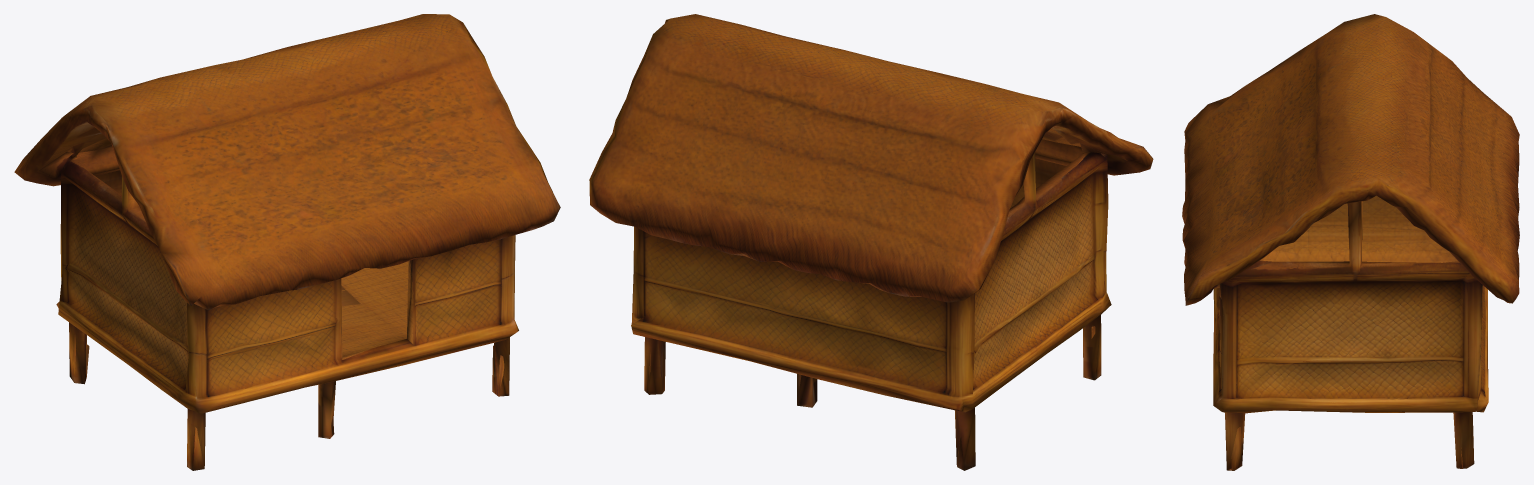
Rendered from Bahay Kubo 2.glb.
3 renders of one model, left to right at view 1: azimuth 30°, elevation 25°; view 2: azimuth 150°, elevation 25°; view 3: azimuth 270°, elevation 25°, orthographic. The views are drawn at different scales.
Bounding box in the file's own units: 1.88 × 1.51 × 1.53.
1 material, 1 textured.
